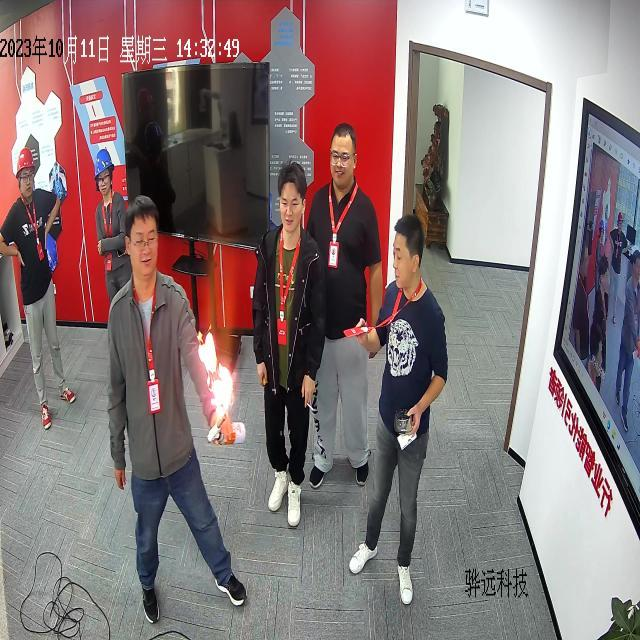Fire: (196, 330, 233, 422)
